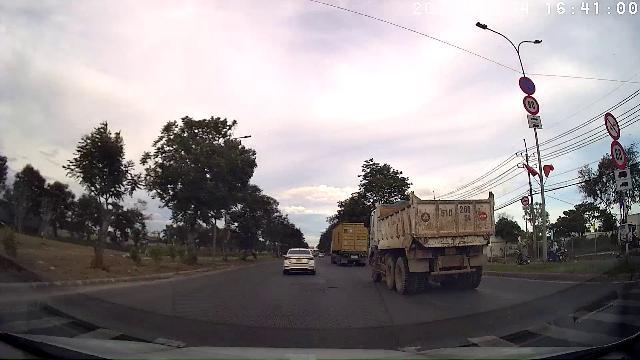127-toc-do-toi-da-60: (610, 141, 628, 169)
127-toc-do-toi-da-80: (524, 96, 540, 115)
130-cam-dung-va-do-xe: (518, 77, 536, 95)
